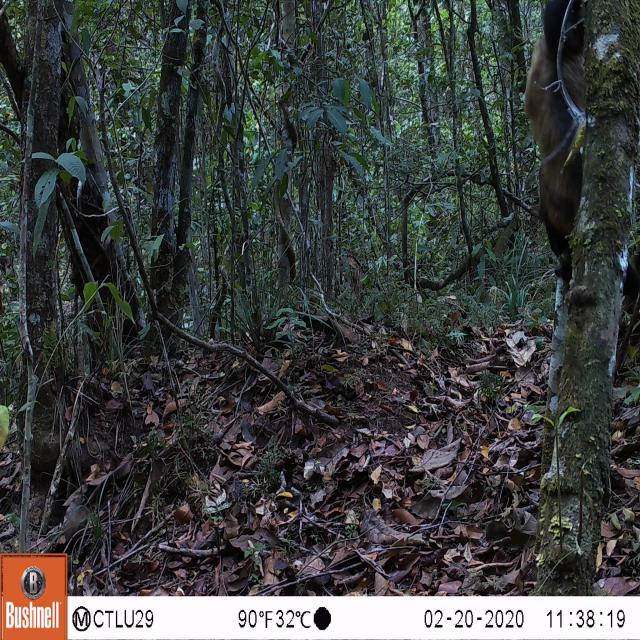Margarita Island Capuchin: (513, 0, 604, 286)
